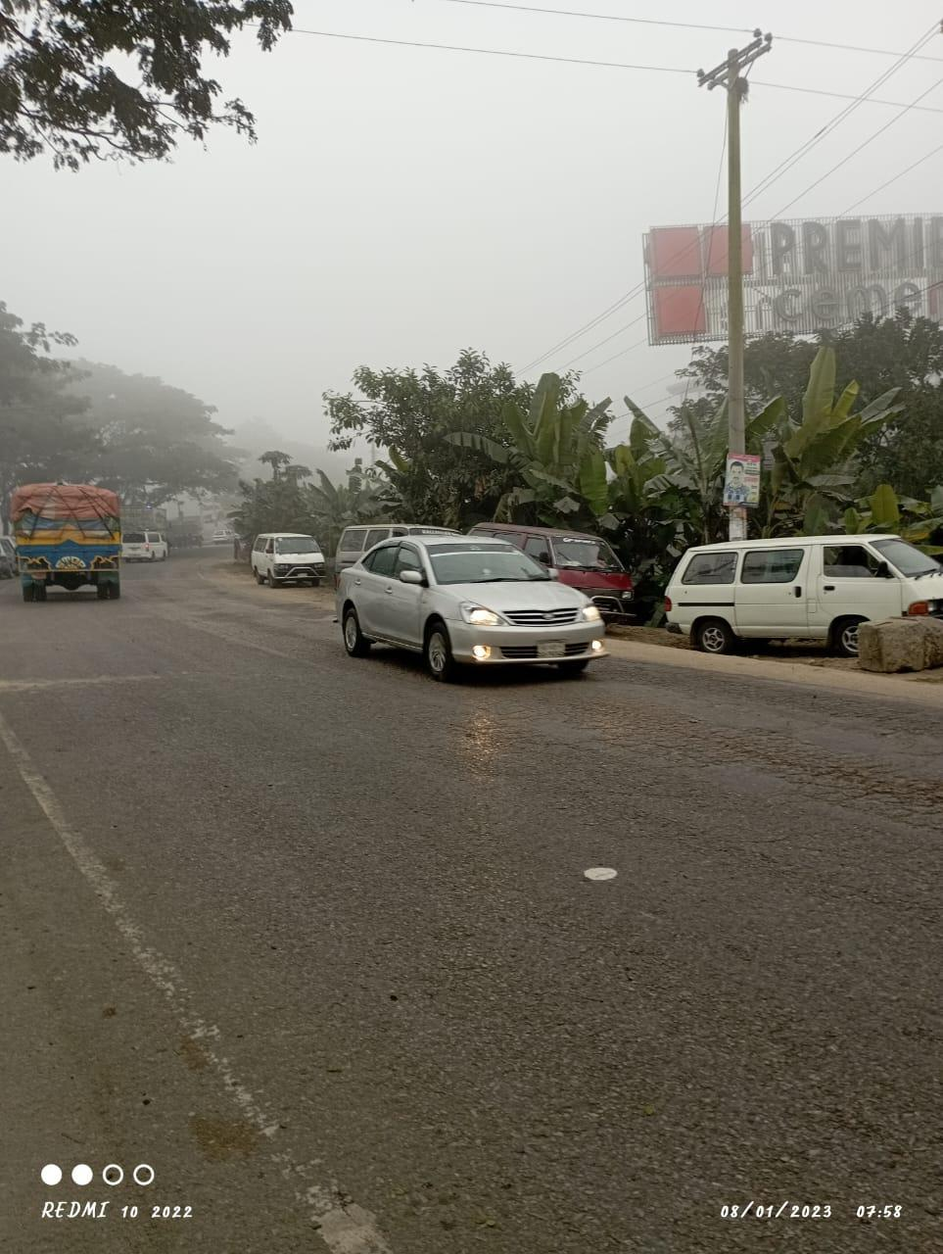Car: (317, 528, 612, 689), (659, 528, 943, 647), (472, 514, 640, 622), (243, 521, 325, 584), (126, 522, 178, 564)
Truck: (9, 478, 133, 611)
